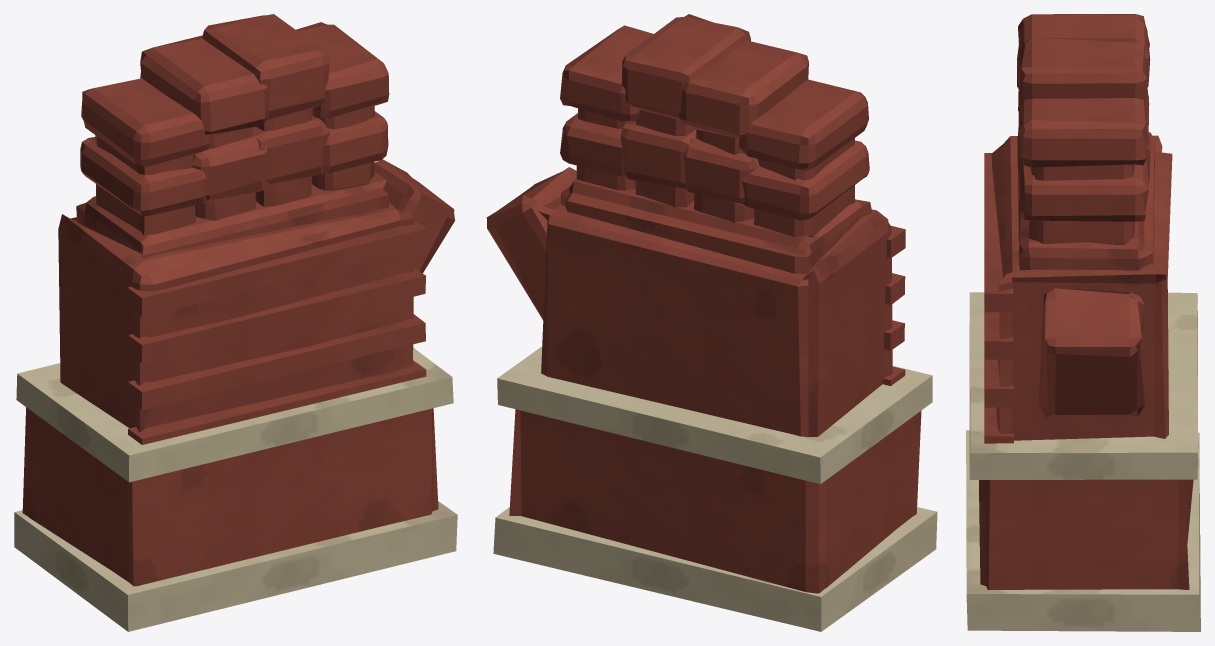
The model's file is insulated_gloves.glb.
3 renders of one model, left to right at view 1: azimuth 30°, elevation 25°; view 2: azimuth 150°, elevation 25°; view 3: azimuth 270°, elevation 25°, orthographic.
Parts seen in each view (by area): view 1: InsulatedGloves; view 2: InsulatedGloves; view 3: InsulatedGloves.
Part boxes in pixels (left/top/right/bottom): InsulatedGloves: left=14, top=14, right=457, bottom=631; InsulatedGloves: left=486, top=14, right=937, bottom=631; InsulatedGloves: left=966, top=14, right=1200, bottom=631.
Bounding box in the file's own units: 0.4179 × 0.5502 × 0.2256.
2 materials, 2 textured.
